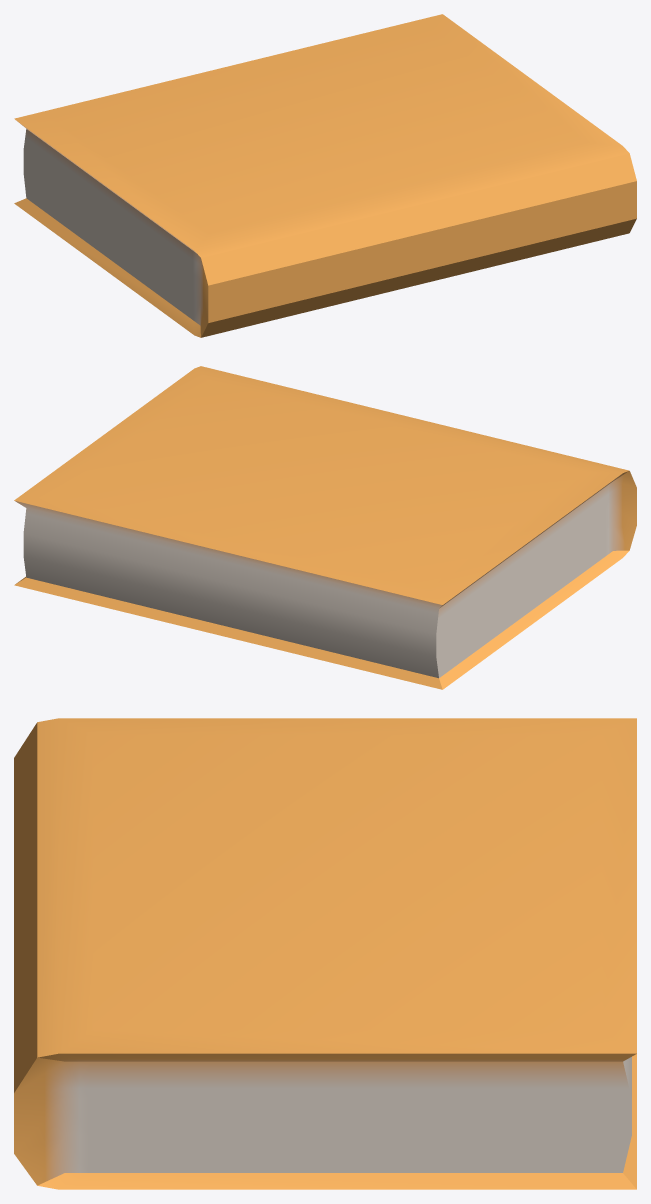
Rendered from book beige.fbx.
3 views of the same model, one above another, from view 1: azimuth 30°, elevation 25°; view 2: azimuth 150°, elevation 25°; view 3: azimuth 270°, elevation 25° (orthographic). The views are drawn at different scales.
Parts seen in each view (by area): view 1: book; view 2: book; view 3: book.
Part boxes in pixels (x1,y1,x2,y2): book: (14, 14, 636, 337); book: (14, 366, 636, 689); book: (14, 718, 636, 1189).
Size of the model in its own units: 21.67 by 4.27 by 17.01.
